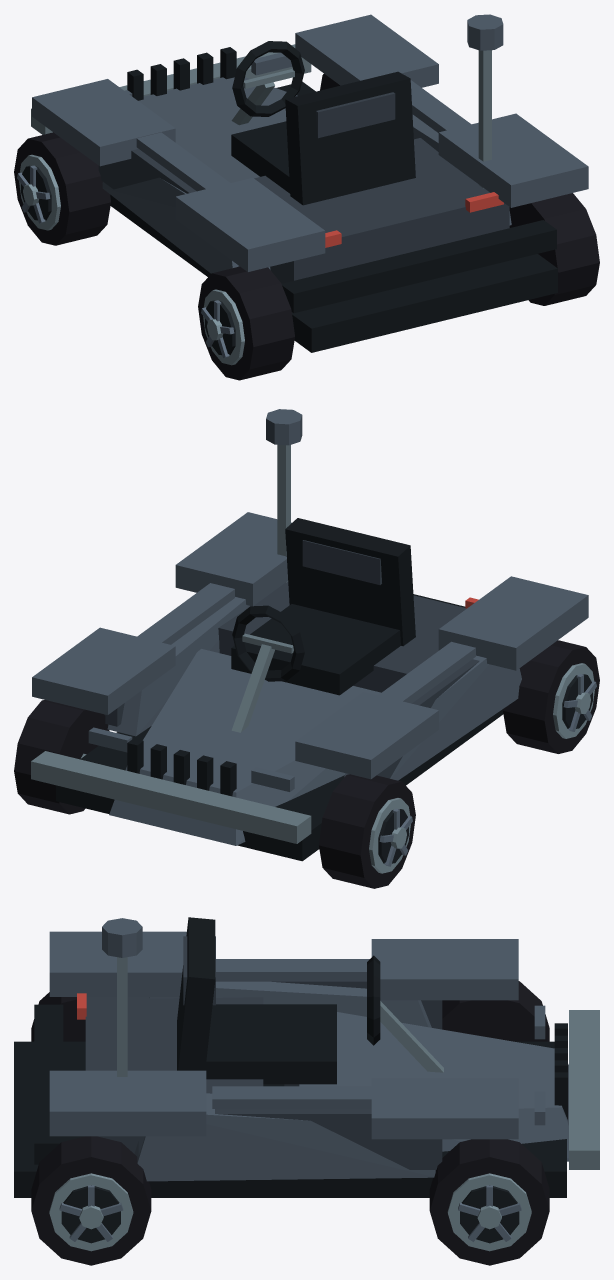
Rendered from kart.glb.
3 views of the same model, one above another, from view 1: azimuth 30°, elevation 25°; view 2: azimuth 150°, elevation 25°; view 3: azimuth 270°, elevation 25° (orthographic). The views are drawn at different scales.
Parts seen in each view (by area): view 1: chassis, wheel-rear-left, wheel-front-left, wheel-rear-right; view 2: chassis, wheel-front-left, wheel-rear-left, wheel-front-right; view 3: chassis, wheel-rear-right, wheel-front-right, wheel-front-left, wheel-rear-left.
Boxes of the visible parts, left/top/right/bottom form: chassis: left=31, top=14, right=588, bottom=352; wheel-rear-left: left=198, top=266, right=294, bottom=380; wheel-front-left: left=14, top=132, right=110, bottom=245; wheel-rear-right: left=509, top=193, right=599, bottom=305; chassis: left=31, top=409, right=588, bottom=861; wheel-front-left: left=319, top=774, right=415, bottom=888; wheel-rear-left: left=503, top=640, right=599, bottom=753; wheel-front-right: left=14, top=700, right=109, bottom=814; chassis: left=14, top=917, right=599, bottom=1197; wheel-rear-right: left=31, top=1136, right=151, bottom=1265; wheel-front-right: left=429, top=1139, right=549, bottom=1265; wheel-front-left: left=442, top=981, right=549, bottom=1041; wheel-rear-left: left=31, top=992, right=85, bottom=1041.
Size of the model in its own units: 2.41 by 1.72 by 3.03.
